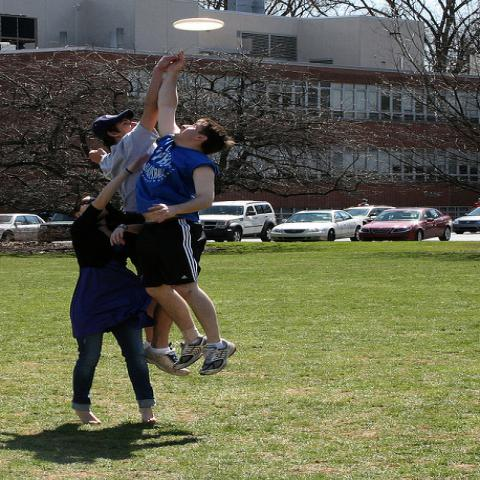car: (198, 200, 277, 243), (359, 207, 452, 242), (270, 208, 362, 241), (1, 214, 46, 241), (39, 211, 76, 242), (343, 205, 397, 225), (452, 207, 479, 235)
